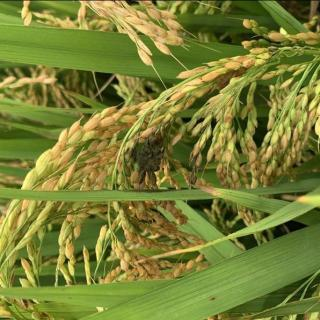Gosong-Palsu: (134, 140, 166, 174)
